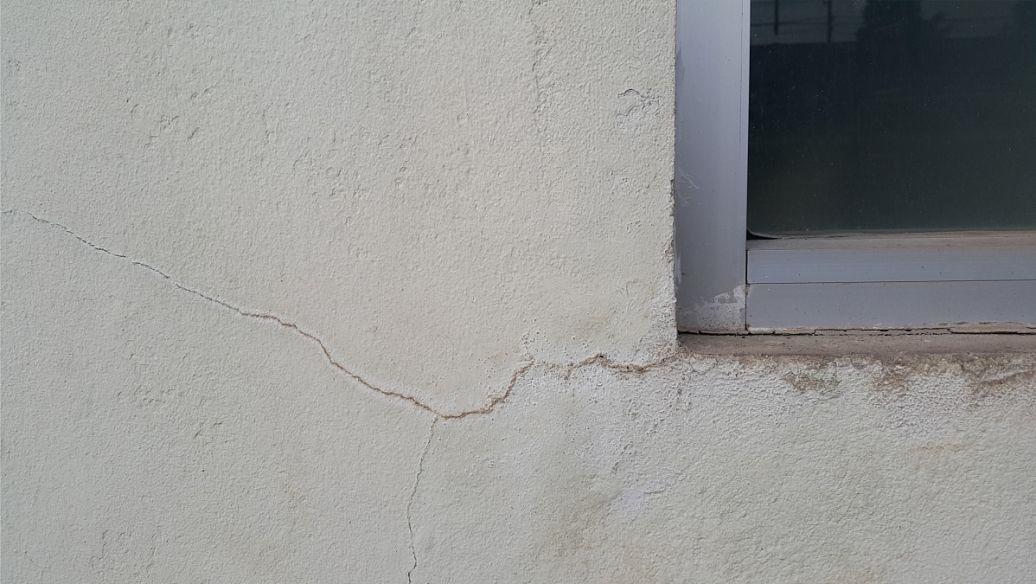Crack: (1, 209, 439, 413), (439, 354, 678, 419), (406, 413, 439, 584)
